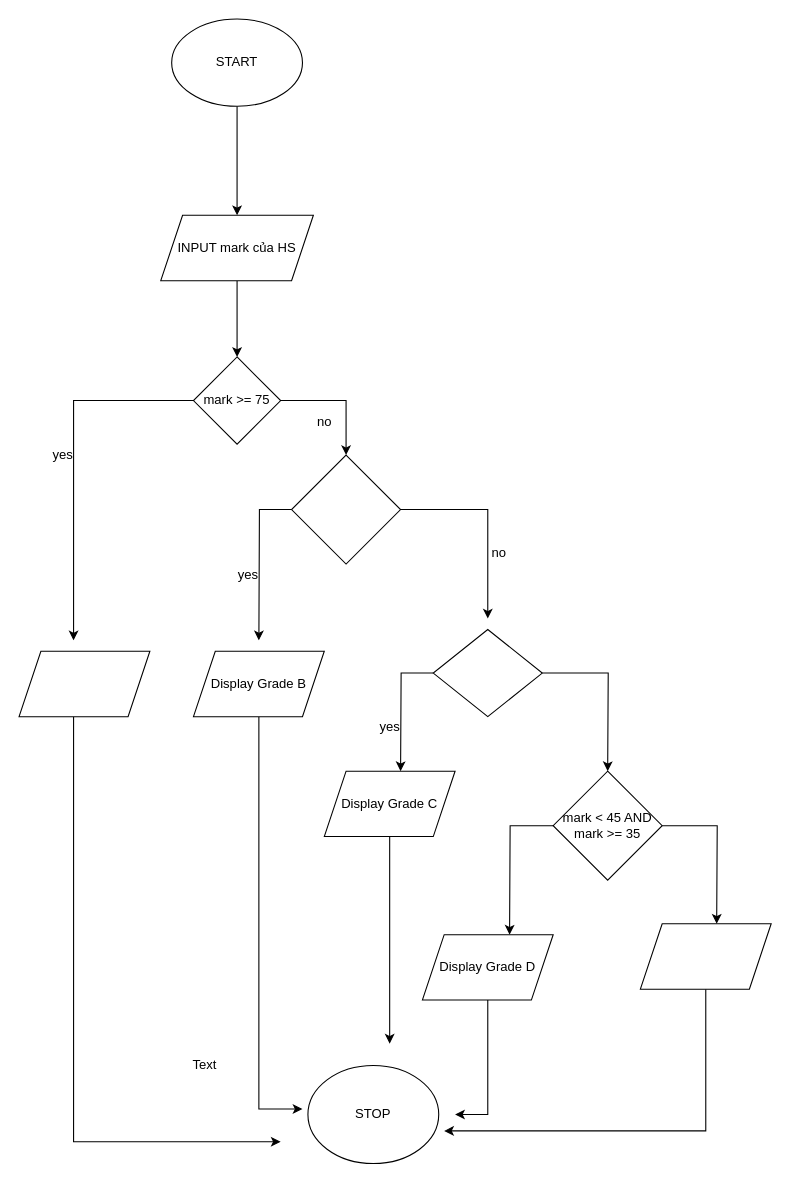
The diagram is 790 pixels wide and 1183 high, and some of its shapes have lost their labels. Here are the shapes that lost their labels. From the top down, the centre of each, then its label:
At (x=345, y=509): "mark < 75 AND mark >= 60".
At (x=84, y=683): "Display Grade A".
At (x=487, y=672): "mark < 60 AND mark >= 45".
At (x=705, y=956): "Display Grade E".
